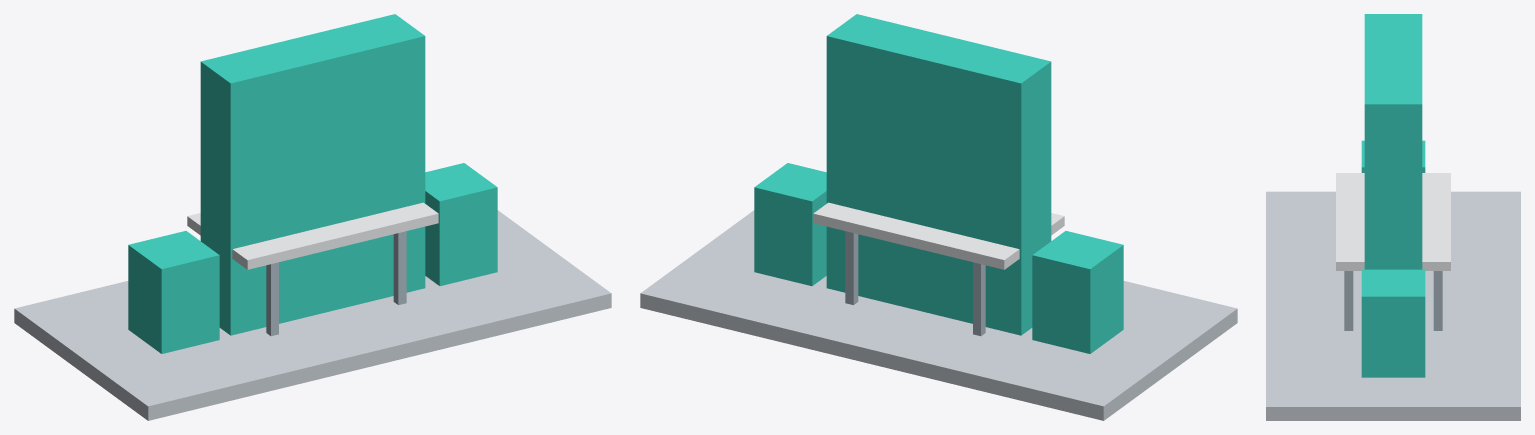
The picture shows the model from 3 angles, left to right: view 1: azimuth 30°, elevation 25°; view 2: azimuth 150°, elevation 25°; view 3: azimuth 270°, elevation 25°; orthographic projection. The views are drawn at different scales.
Parts seen in each view (by area): view 1: Exhibition Booth Concept; view 2: Exhibition Booth Concept; view 3: Exhibition Booth Concept.
Part boxes in pixels (bbox=[...]): Exhibition Booth Concept: bbox=[14, 14, 611, 420]; Exhibition Booth Concept: bbox=[640, 14, 1237, 420]; Exhibition Booth Concept: bbox=[1266, 14, 1520, 420].
Size of the model in its own units: 4 by 2.2 by 2.
